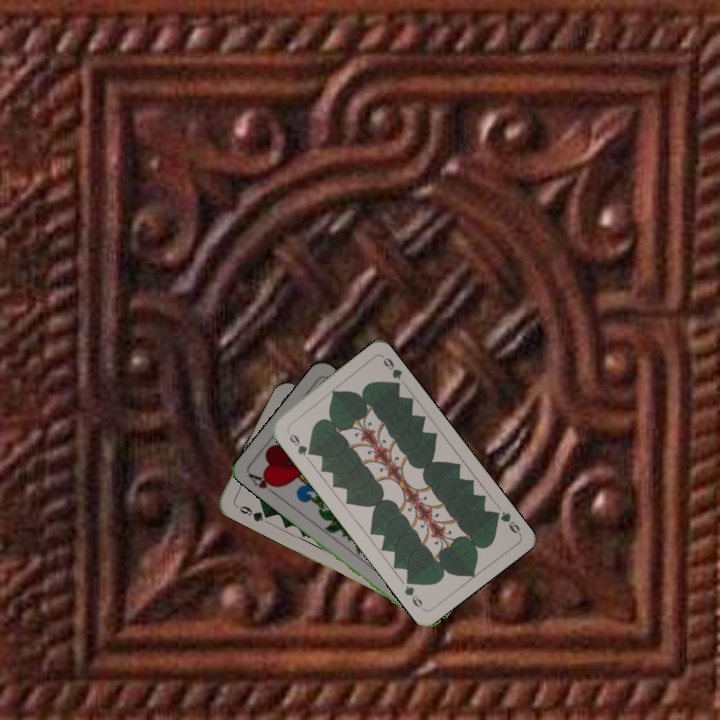G9: (488, 507, 523, 537), (230, 500, 270, 524), (285, 430, 315, 458)
HA: (244, 469, 281, 499)
